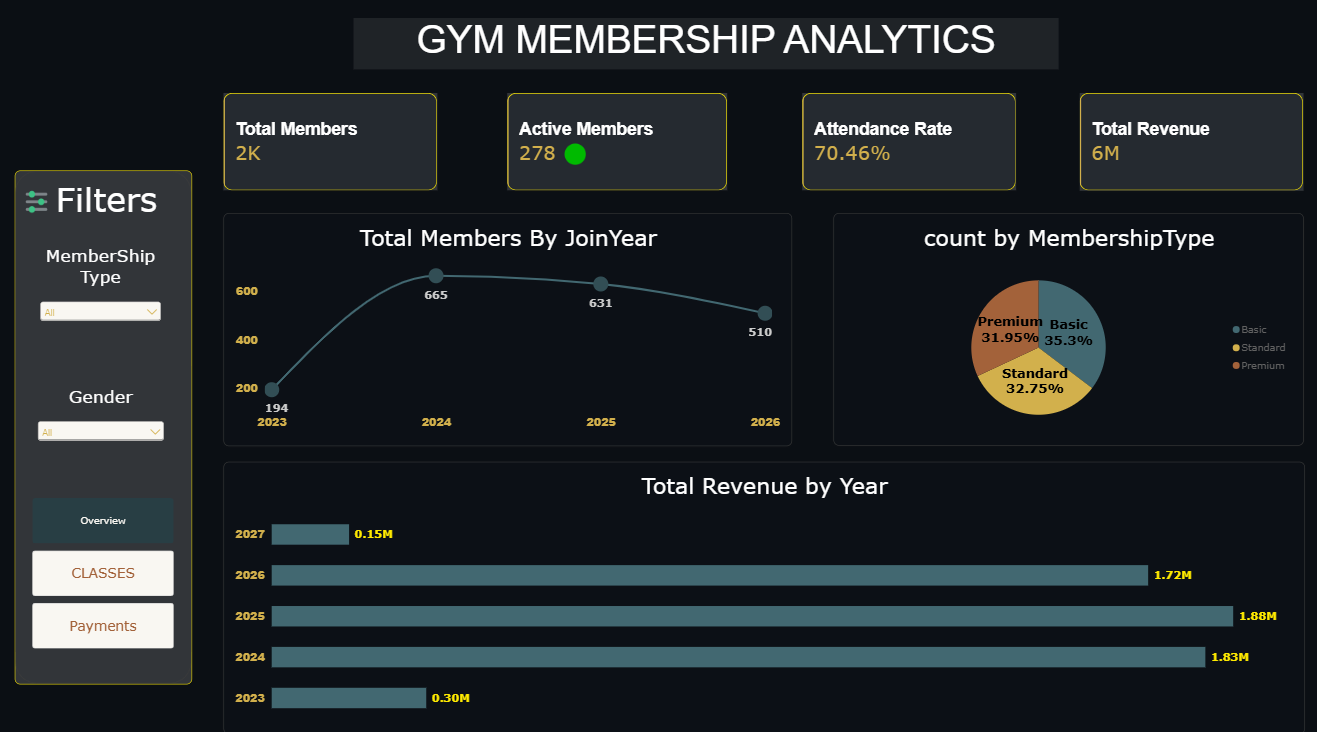

The dashboard page shown, as its layout file describes it:
{"tool":"powerbi","page":{"name":"Overview","canvas":[1920,1080],"ordinal":0},"visuals":[{"type":"shape","box":[27.1,257,257,743.8],"z":0},{"type":"cardVisual","fields":{"Data":["members.Total Members"]},"box":[329.4,144.8,309.5,141.2],"z":1000},{"type":"slicer","title":"Gender","fields":{"Values":["members.Gender"]},"box":[39.8,553.8,224.4,150.3],"z":2000},{"type":"slicer","title":"MemberShip Type","fields":{"Values":["members.MembershipType"]},"box":[43.4,349.3,216.1,189.4],"z":3000},{"type":"lineChart","title":"Total Members By JoinYear","fields":{"Category":["members.MembershipStartDate.Variation.Date Hierarchy.Year"],"Y":["members.Total Members"]},"box":[329.4,318.5,823.3,337.6],"z":4000},{"type":"clusteredBarChart","fields":{"Category":["payments.PaymentDate.Variation.Date Hierarchy.Year"],"Y":["payments.Total Revenue"]},"box":[329.4,678.6,1565.4,394.5],"z":5000},{"type":"pieChart","title":"count  by MembershipType","fields":{"Category":["members.MembershipType"],"Y":["CountNonNull(members.MembershipType)"]},"box":[1212.9,318.4,681,336.8],"z":6000},{"type":"textbox","box":[517.6,36.2,1020.6,74.2],"z":7000},{"type":"pageNavigator","box":[53.4,730.7,205.8,218.2],"z":8000},{"type":"cardVisual","fields":{"Data":["payments.Total Revenue"]},"box":[1569,144.8,323.9,141.7],"z":9000},{"type":"cardVisual","fields":{"Data":["attendance.Attendance Rate"]},"box":[1167.2,144.8,309.5,141.2],"z":10000},{"type":"cardVisual","fields":{"Data":["members.Active Members"]},"box":[740.2,144.8,318.5,141.2],"z":11000},{"type":"image","box":[819.8,215.3,38,36.2],"z":12000},{"type":"textbox","box":[19.9,269.6,280.5,79.6],"z":13000},{"type":"image","box":[19.9,285.9,77.8,32.6],"z":14000}]}

Visuals, with their boxes in screenshot pixels (x1, y1, x2, y2), scaled from the page's 1920x1080 canvas onto the 1317x732 screenshot:
shape: rect(19, 174, 195, 678)
cardVisual - members.Total Members: rect(226, 98, 438, 194)
"Gender" slicer: rect(27, 375, 181, 477)
"MemberShip Type" slicer: rect(30, 237, 178, 365)
"Total Members By JoinYear" lineChart: rect(226, 216, 791, 445)
clusteredBarChart - payments.PaymentDate.Variation.Date Hierarchy.Year x payments.Total Revenue: rect(226, 460, 1300, 727)
"count  by MembershipType" pieChart: rect(832, 216, 1299, 444)
textbox: rect(355, 25, 1055, 75)
pageNavigator: rect(37, 495, 178, 643)
cardVisual - payments.Total Revenue: rect(1076, 98, 1298, 194)
cardVisual - attendance.Attendance Rate: rect(801, 98, 1013, 194)
cardVisual - members.Active Members: rect(508, 98, 726, 194)
image: rect(562, 146, 588, 170)
textbox: rect(14, 183, 206, 237)
image: rect(14, 194, 67, 216)
